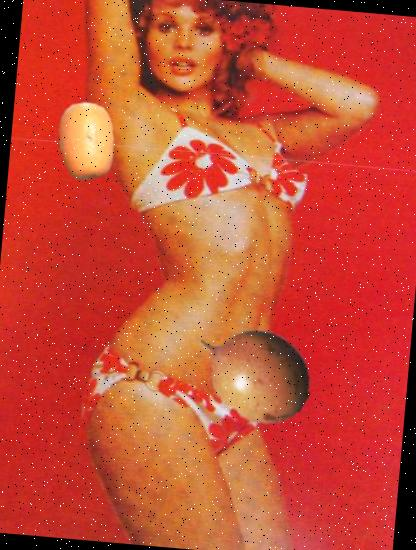Granadilla: (187, 306, 318, 438)
Kumquats: (42, 97, 130, 184)
